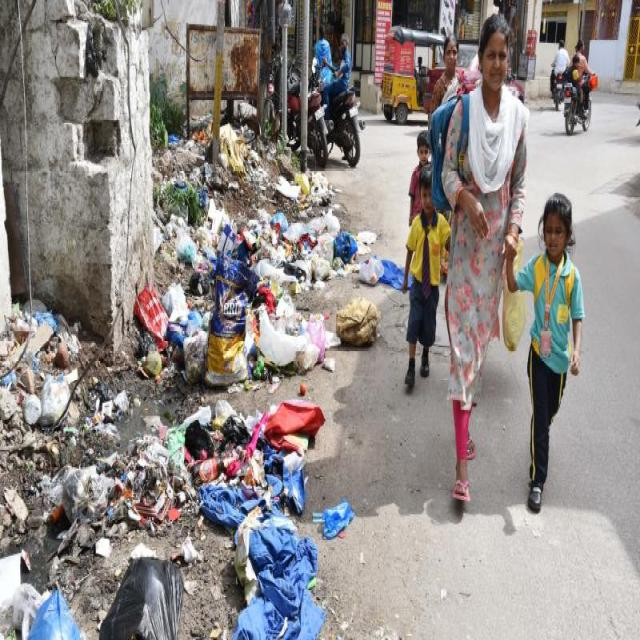garbage: (1, 116, 403, 638), (98, 554, 184, 639), (335, 296, 380, 346), (312, 500, 354, 539)
